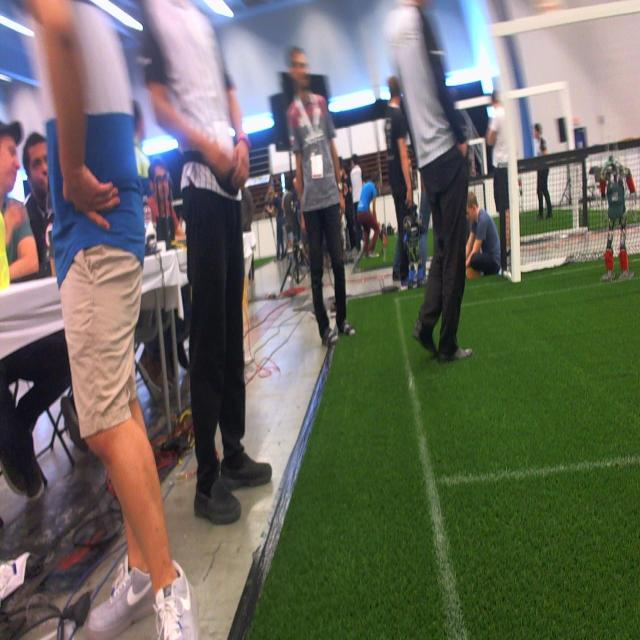goalpost: (500, 38, 523, 280)
